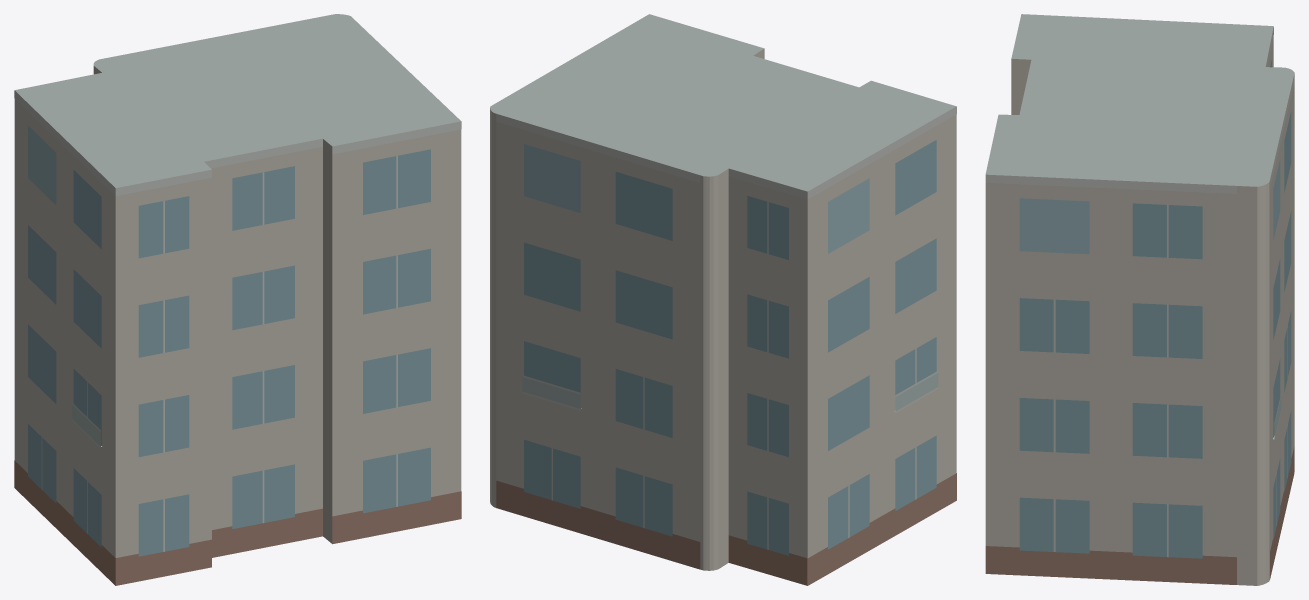
The model's file is survey-upis-32932084.glb.
3 views of the same model, side by side, from view 1: azimuth 30°, elevation 25°; view 2: azimuth 150°, elevation 25°; view 3: azimuth 270°, elevation 25° (orthographic).
Parts seen in each view (by area): view 1: survey-upis-32932084.tmp; view 2: survey-upis-32932084.tmp; view 3: survey-upis-32932084.tmp.
Part boxes in pixels (x1,y1,x2,y2): survey-upis-32932084.tmp: (14,14,461,585); survey-upis-32932084.tmp: (490,14,956,585); survey-upis-32932084.tmp: (985,14,1294,585).
Bounding box in the file's own units: 11.28 × 12.15 × 8.53.
